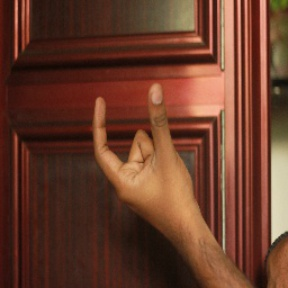U: (87, 77, 187, 208)
